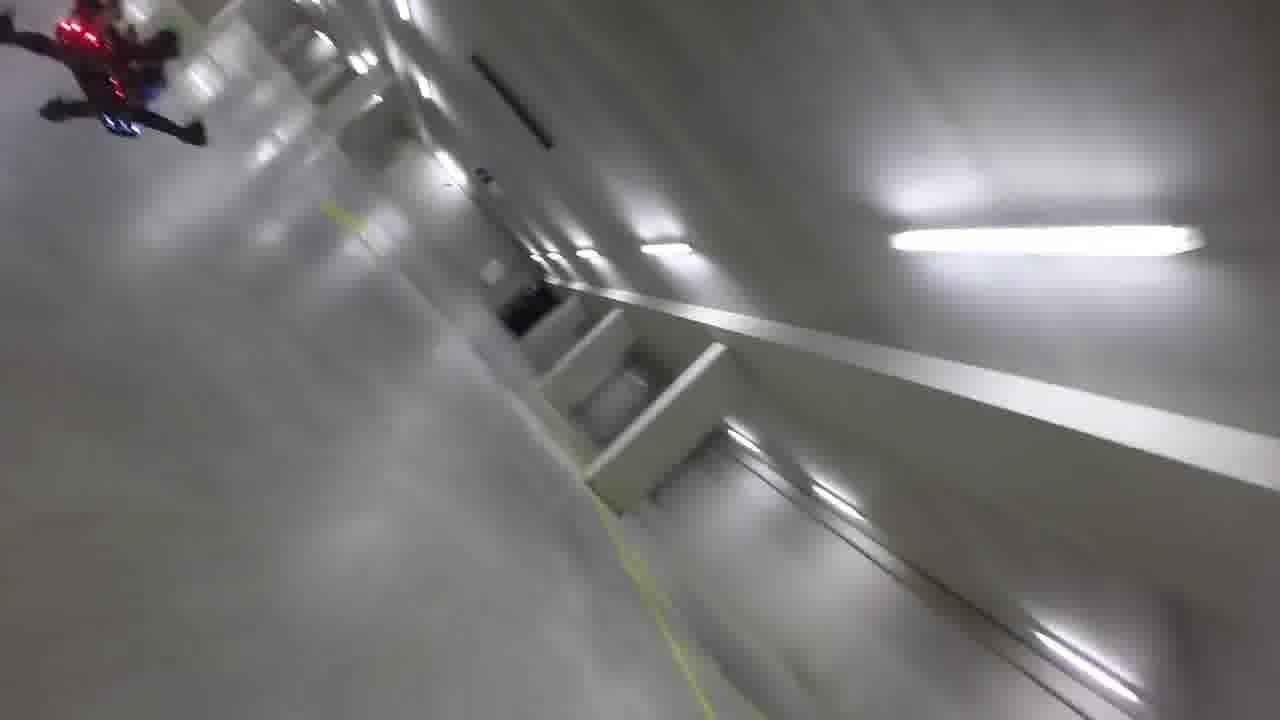drone: (3, 2, 221, 152)
